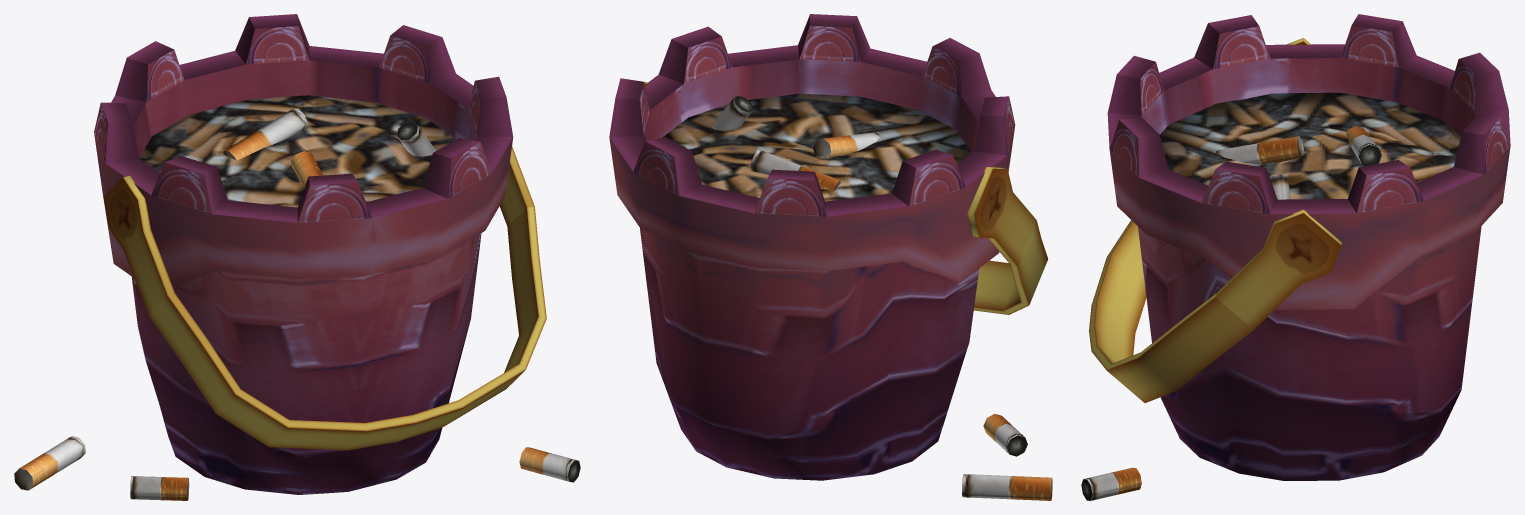
The model's file is cigBucket.fbx.
3 renders of one model, left to right at view 1: azimuth 30°, elevation 25°; view 2: azimuth 150°, elevation 25°; view 3: azimuth 270°, elevation 25°, orthographic. The views are drawn at different scales.
Visible parts, largest first — view 1: Cylinder.010; view 2: Cylinder.010; view 3: Cylinder.010.
Part boxes in pixels (x1,y1,x2,y2): Cylinder.010: (14,14,580,500); Cylinder.010: (609,14,1052,500); Cylinder.010: (1081,14,1510,500).
Size of the model in its own units: 80.03 by 57.33 by 67.39.
Materials: 2 (2 with a texture image).
